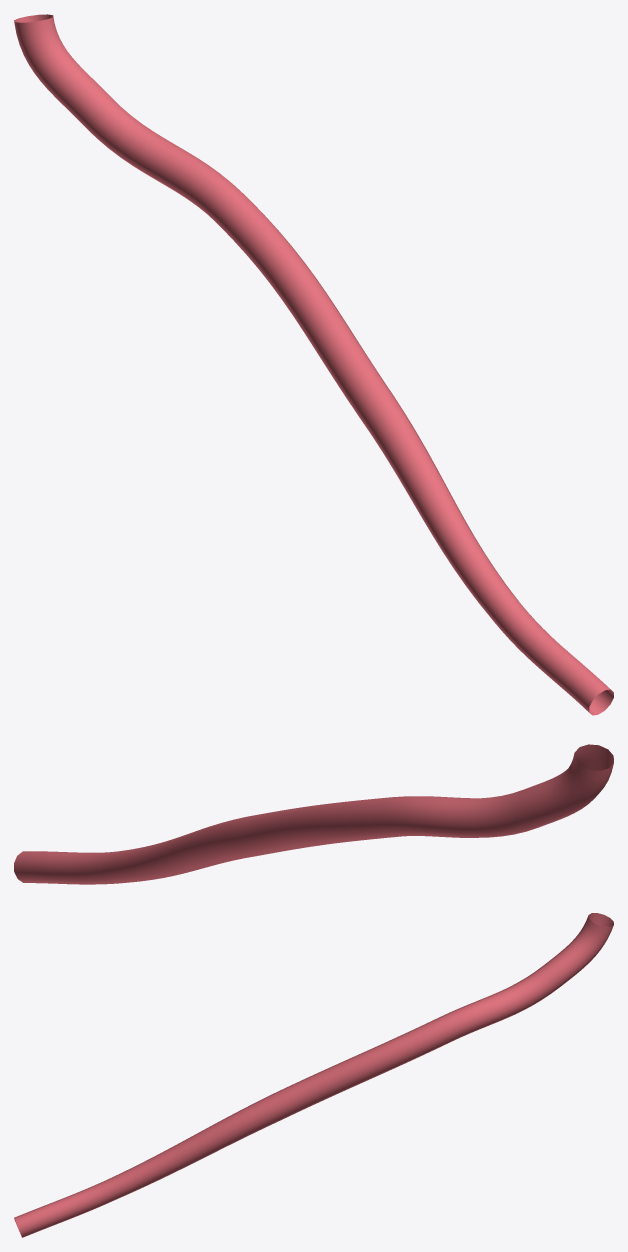
3 renders of one model, top to bottom at view 1: azimuth 30°, elevation 25°; view 2: azimuth 210°, elevation 25°; view 3: azimuth 270°, elevation 25°, orthographic. The views are drawn at different scales.
Visible parts, largest first — view 1: ZA_b9c76440970f5794; view 2: ZA_b9c76440970f5794; view 3: ZA_b9c76440970f5794.
Part boxes in pixels (left/top/right/bottom): ZA_b9c76440970f5794: left=14, top=14, right=613, bottom=715; ZA_b9c76440970f5794: left=14, top=744, right=613, bottom=884; ZA_b9c76440970f5794: left=14, top=913, right=613, bottom=1237.
Size of the model in its own units: 0.0138 by 0.0337 by 0.0658.
